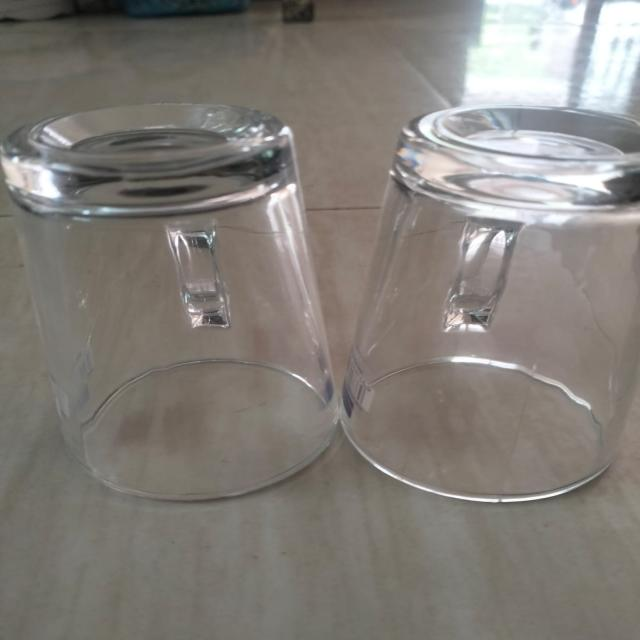glass-VX4N: (0, 104, 342, 504), (338, 107, 640, 504)
